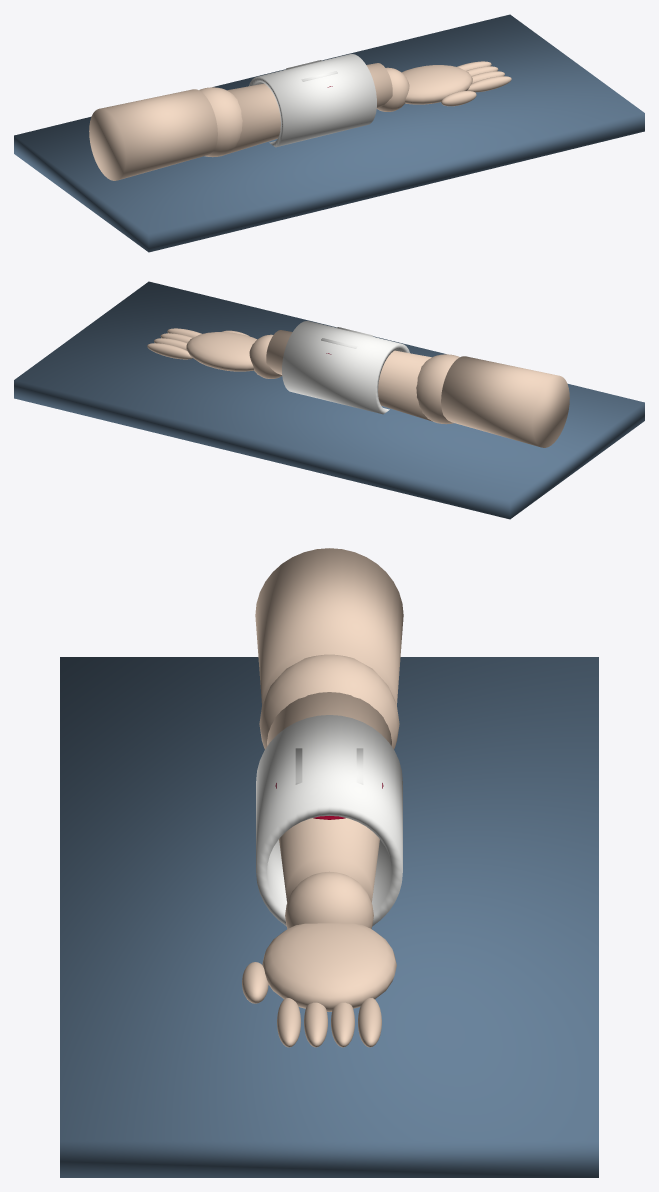
File: TrainerArm.glb
3 views of the same model, one above another, from view 1: azimuth 30°, elevation 25°; view 2: azimuth 150°, elevation 25°; view 3: azimuth 270°, elevation 25° (orthographic). The views are drawn at different scales.
Parts seen in each view (by area): view 1: ArmBase, UpperArm, Sleeve, Forearm, Hand, Elbow, Wrist, Finger0, Thumb; view 2: ArmBase, UpperArm, Sleeve, Forearm, Hand, Elbow, Wrist, Finger3; view 3: ArmBase, Sleeve, UpperArm, Hand, Forearm, Elbow, Wrist, Finger0, Finger3, Finger1, Finger2, Thumb.
Part boxes in pixels (bbox=[...]): ArmBase: bbox=[14, 14, 644, 252]; UpperArm: bbox=[89, 89, 217, 180]; Sleeve: bbox=[249, 54, 376, 147]; Forearm: bbox=[226, 63, 392, 154]; Hand: bbox=[402, 65, 472, 104]; Elbow: bbox=[199, 87, 242, 157]; Wrist: bbox=[376, 67, 409, 111]; Finger0: bbox=[466, 76, 511, 92]; Thumb: bbox=[441, 90, 476, 106]; ArmBase: bbox=[14, 281, 644, 519]; UpperArm: bbox=[441, 356, 569, 447]; Sleeve: bbox=[282, 321, 409, 414]; Forearm: bbox=[266, 330, 432, 421]; Hand: bbox=[186, 332, 256, 371]; Elbow: bbox=[416, 354, 459, 424]; Wrist: bbox=[249, 334, 282, 378]; Finger3: bbox=[147, 343, 192, 359]; ArmBase: bbox=[60, 657, 598, 1177]; Sleeve: bbox=[256, 715, 402, 926]; UpperArm: bbox=[255, 548, 403, 705]; Hand: bbox=[262, 923, 396, 1011]; Forearm: bbox=[267, 692, 391, 902]; Elbow: bbox=[259, 654, 399, 749]; Wrist: bbox=[285, 871, 373, 928]; Finger0: bbox=[277, 998, 301, 1047]; Finger3: bbox=[357, 998, 381, 1047]; Finger1: bbox=[304, 1002, 327, 1047]; Finger2: bbox=[331, 1002, 354, 1047]; Thumb: bbox=[242, 962, 268, 1003].
Size of the model in its own units: 0.85 by 0.14 by 0.4.
